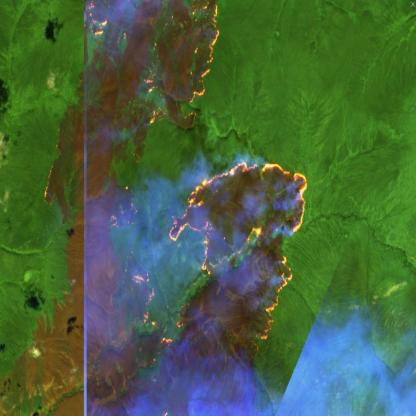fire: (108, 153, 310, 353), (86, 0, 224, 125)
